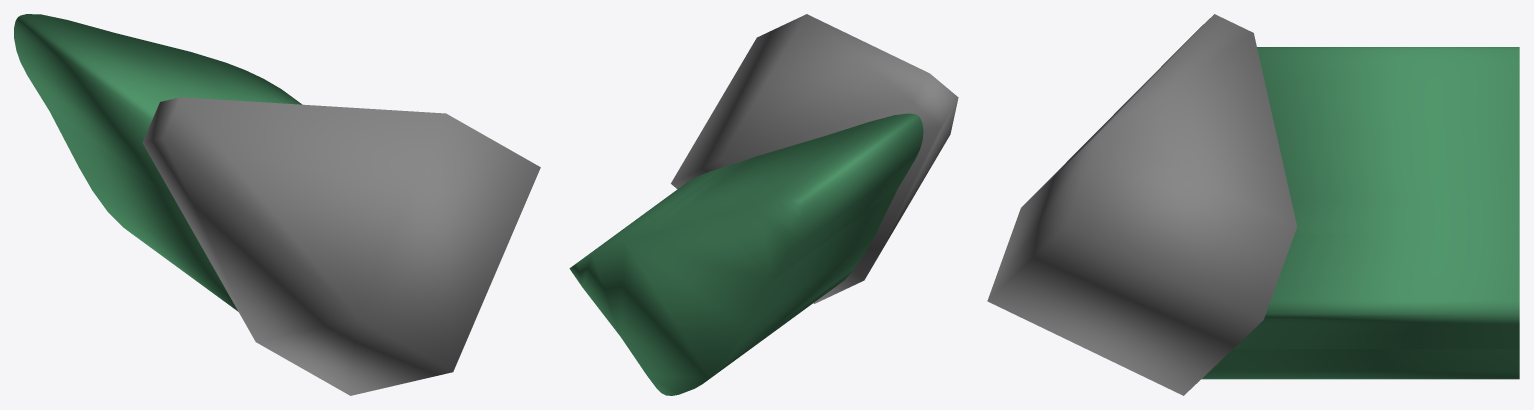
File: overhangSupport.glb
3 views of the same model, side by side, from view 1: azimuth 30°, elevation 25°; view 2: azimuth 150°, elevation 25°; view 3: azimuth 270°, elevation 25° (orthographic). The views are drawn at different scales.
Visible parts, largest first — view 1: inversePyramid.stl, world; view 2: world, inversePyramid.stl; view 3: world, inversePyramid.stl.
Boxes of the visible parts, left/top/right/bottom form: inversePyramid.stl: left=142, top=97, right=540, bottom=395; world: left=14, top=14, right=301, bottom=311; world: left=569, top=113, right=923, bottom=395; inversePyramid.stl: left=671, top=14, right=958, bottom=303; world: left=1201, top=47, right=1519, bottom=379; inversePyramid.stl: left=987, top=14, right=1297, bottom=395.
Size of the model in its own units: 15.35 by 15.39 by 23.93.
